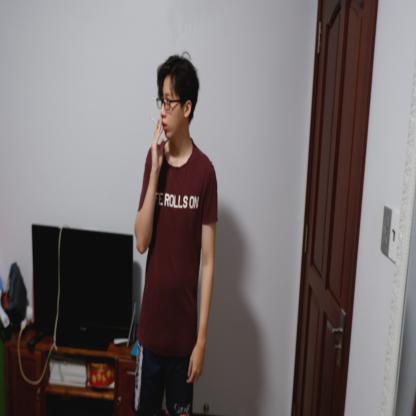cigarette: (148, 115, 160, 128)
person: (130, 52, 220, 415)
